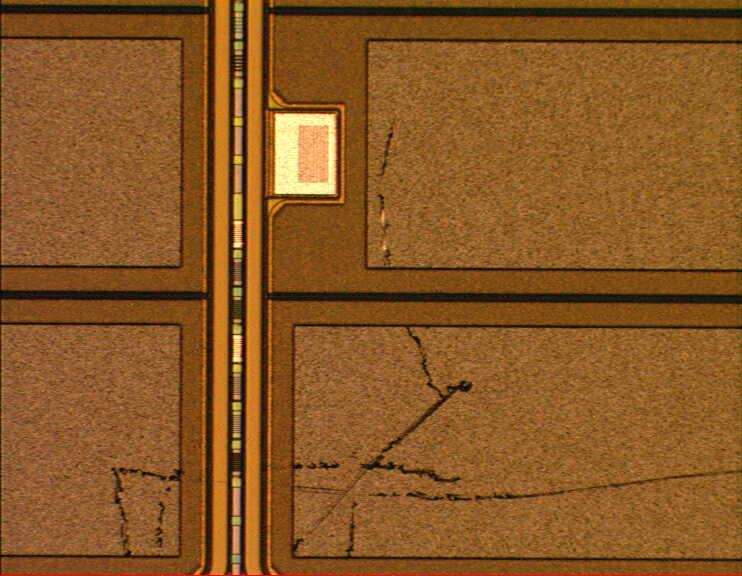SCRATCH: (102, 114, 742, 565)
